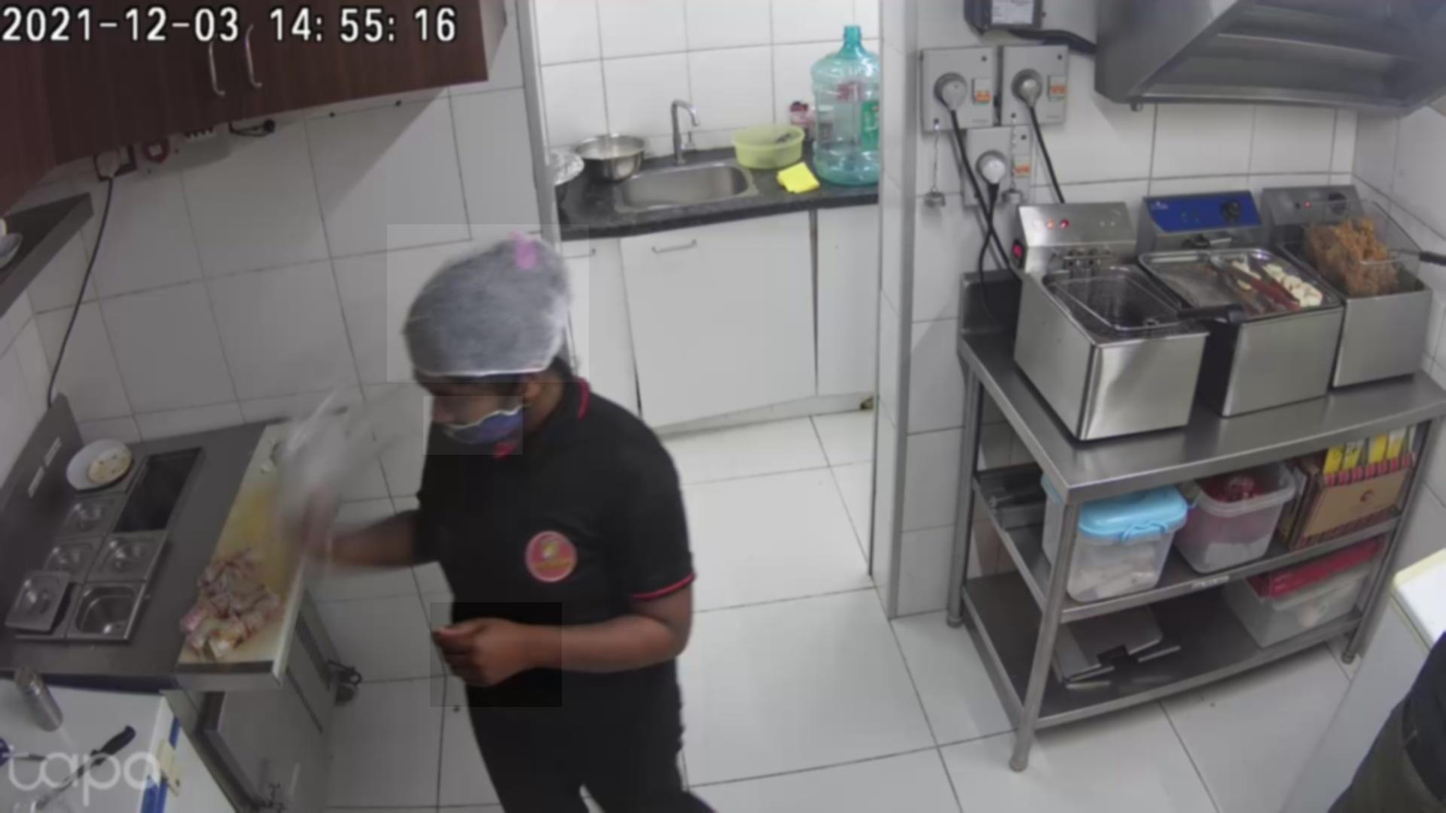gloves: (387, 224, 589, 382)
no_apron: (430, 603, 562, 708)
no_hairnet: (424, 396, 523, 455)
